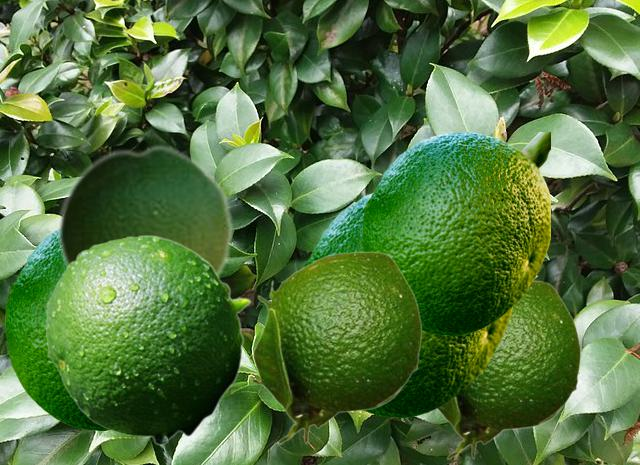dalandan: (302, 190, 511, 416), (45, 234, 250, 445), (362, 132, 549, 334), (250, 251, 421, 444), (437, 280, 580, 459), (56, 142, 233, 278), (5, 229, 105, 429)
